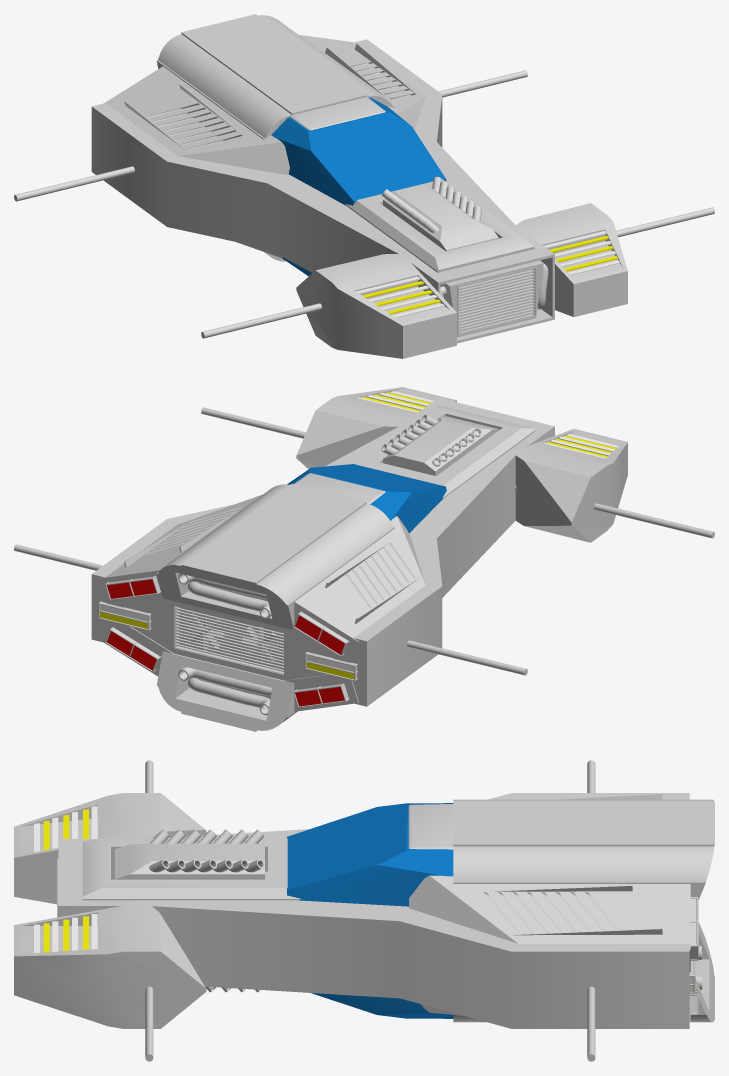
Rendered from Misanthrop.obj.
The picture shows the model from 3 angles, top to bottom: view 1: azimuth 30°, elevation 25°; view 2: azimuth 150°, elevation 25°; view 3: azimuth 270°, elevation 25°; orthographic projection. The views are drawn at different scales.
Visible parts, largest first — view 1: Body, Cockpit_Back, Boole.1, Boole.4_1, Boole.4, Symmetry.2, Cylinder, Cube_27, Cylinder.1, Cube_9, Cube_10, Cube.1_5; view 2: Body, Cockpit_Back, Boole.1, Symmetry.2, Boole.4_1, Cube_21, Cylinder, Cylinder.1, Cube_22, Cube_27, Sweep.1, Sweep.4 (+14 smaller); view 3: Body, Cockpit_Back, Boole.4_1, Boole.1, Symmetry.2, Cube_27, Cube_9, Cylinder.1, Cylinder, Cube_10, Cube.1_1.
Part boxes in pixels (bbox=[...]): Body: bbox=[91, 39, 627, 358]; Cockpit_Back: bbox=[156, 14, 394, 261]; Boole.1: bbox=[104, 34, 425, 257]; Boole.4_1: bbox=[271, 97, 446, 276]; Boole.4: bbox=[446, 260, 543, 337]; Symmetry.2: bbox=[381, 177, 498, 251]; Cylinder: bbox=[201, 207, 714, 338]; Cube_27: bbox=[290, 97, 385, 130]; Cylinder.1: bbox=[14, 70, 527, 201]; Cube_9: bbox=[124, 43, 419, 152]; Cube_10: bbox=[179, 47, 387, 133]; Cube.1_5: bbox=[356, 231, 606, 294]; Body: bbox=[91, 387, 627, 706]; Cockpit_Back: bbox=[156, 483, 394, 731]; Boole.1: bbox=[99, 494, 425, 711]; Symmetry.2: bbox=[381, 414, 498, 476]; Boole.4_1: bbox=[287, 464, 446, 533]; Cube_21: bbox=[107, 579, 344, 706]; Cylinder: bbox=[201, 407, 714, 538]; Cylinder.1: bbox=[14, 544, 527, 675]; Cube_22: bbox=[105, 575, 349, 707]; Cube_27: bbox=[294, 473, 385, 504]; Sweep.1: bbox=[188, 581, 271, 618]; Sweep.4: bbox=[188, 678, 270, 715]; Body: bbox=[14, 793, 689, 1028]; Cockpit_Back: bbox=[453, 799, 714, 1022]; Boole.4_1: bbox=[287, 803, 453, 1018]; Boole.1: bbox=[409, 875, 690, 1021]; Symmetry.2: bbox=[115, 829, 264, 992]; Cube_27: bbox=[408, 804, 453, 849]; Cube_9: bbox=[512, 794, 662, 935]; Cylinder.1: bbox=[587, 760, 595, 1061]; Cylinder: bbox=[145, 760, 153, 1061]; Cube_10: bbox=[488, 884, 632, 891]; Cube.1_1: bbox=[690, 898, 696, 1013].
Size of what is drawn, in the model's own units: 8.82 by 2.46 by 8.88.
